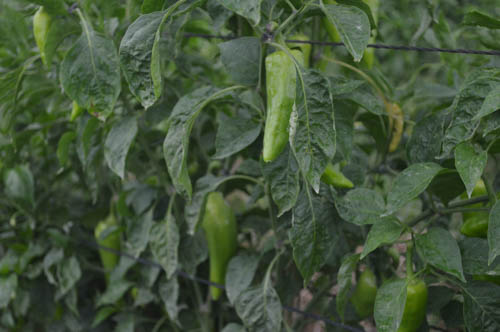ChiliPepper: (260, 50, 305, 168), (197, 192, 234, 303), (382, 273, 435, 332), (80, 218, 126, 284), (343, 261, 380, 319), (27, 7, 59, 71), (464, 205, 492, 243), (320, 160, 357, 188)
